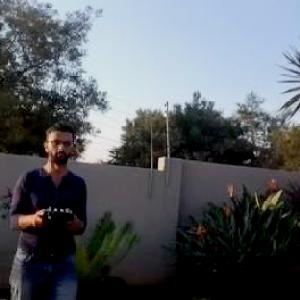follow: (1, 110, 90, 299)
